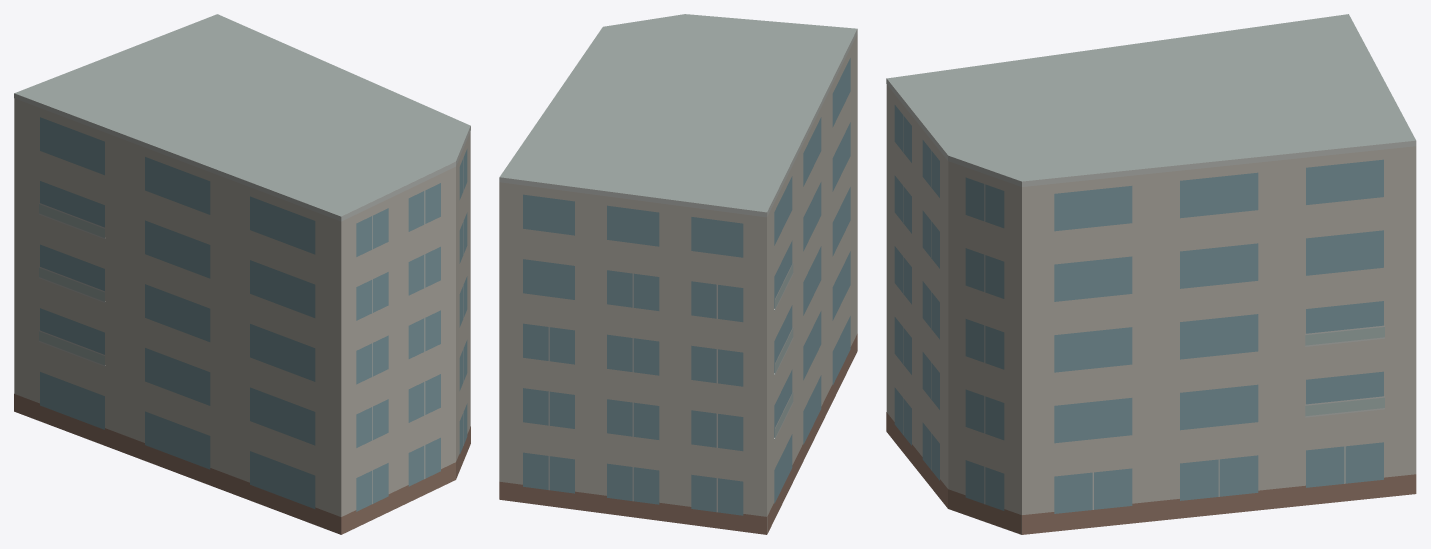
The model's file is survey-upis-32650886.glb.
3 renders of one model, left to right at view 1: azimuth 30°, elevation 25°; view 2: azimuth 150°, elevation 25°; view 3: azimuth 270°, elevation 25°, orthographic. The views are drawn at different scales.
Parts seen in each view (by area): view 1: survey-upis-32650886.tmp; view 2: survey-upis-32650886.tmp; view 3: survey-upis-32650886.tmp.
Part boxes in pixels (bbox=[...]): survey-upis-32650886.tmp: bbox=[14, 14, 470, 534]; survey-upis-32650886.tmp: bbox=[499, 14, 857, 534]; survey-upis-32650886.tmp: bbox=[886, 14, 1416, 534].
Size of the model in its own units: 15.93 by 15.65 by 21.28.
